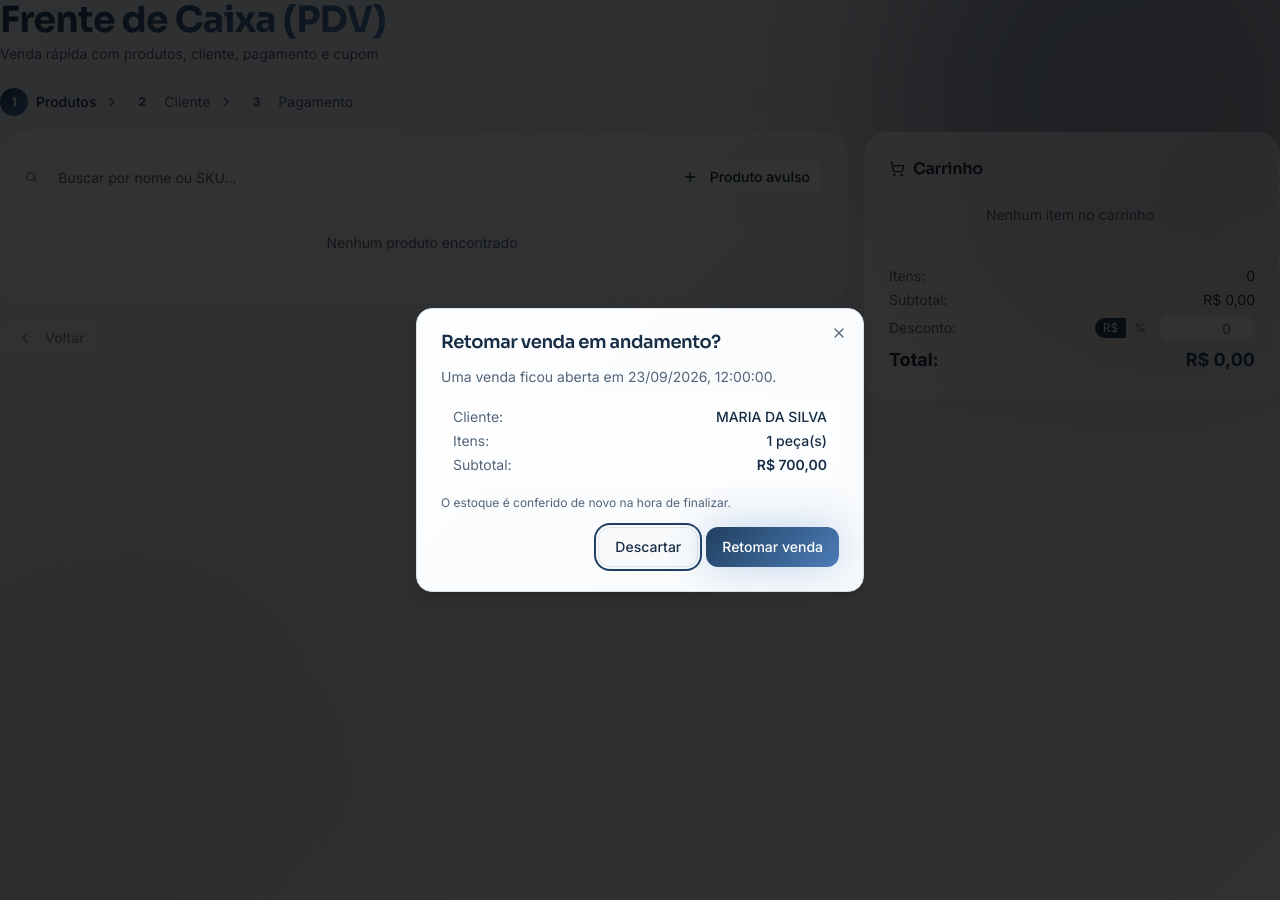
Scenario: PDV — venda na carteira até o banco › a prévia mostra todos os vencimentos antes de finalizar
Click the button "Retomar venda" at [773, 547], box x1=706 y1=527 x2=839 y2=567
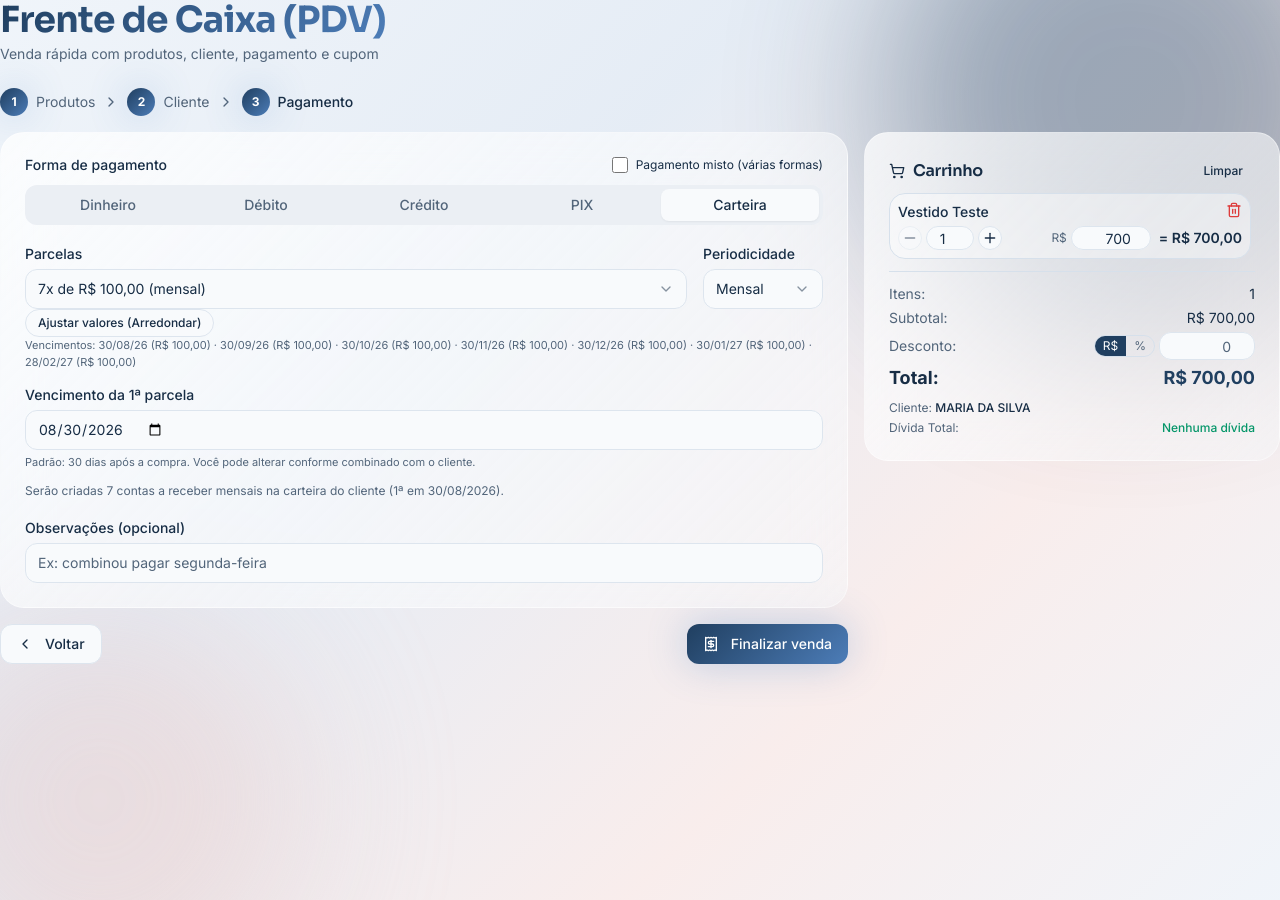
Expected: the text with test id "previa-vencimentos" shows "28/02/27", x1=25 y1=338 x2=812 y2=368
